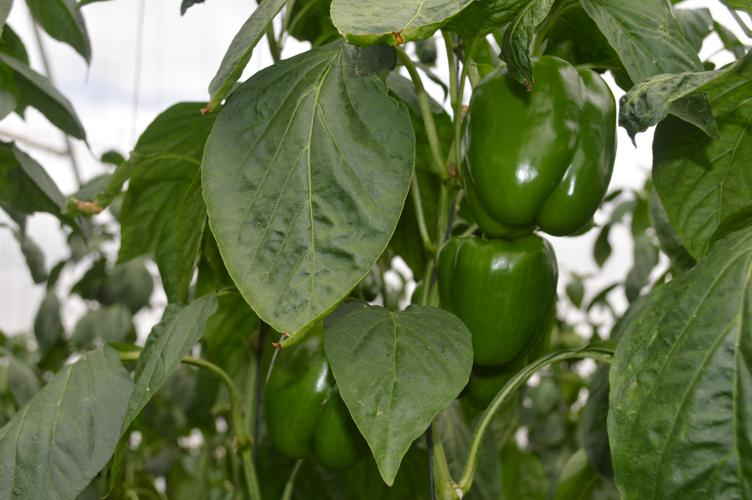BellPepper: (462, 55, 616, 235), (433, 234, 557, 362), (258, 337, 367, 472)
